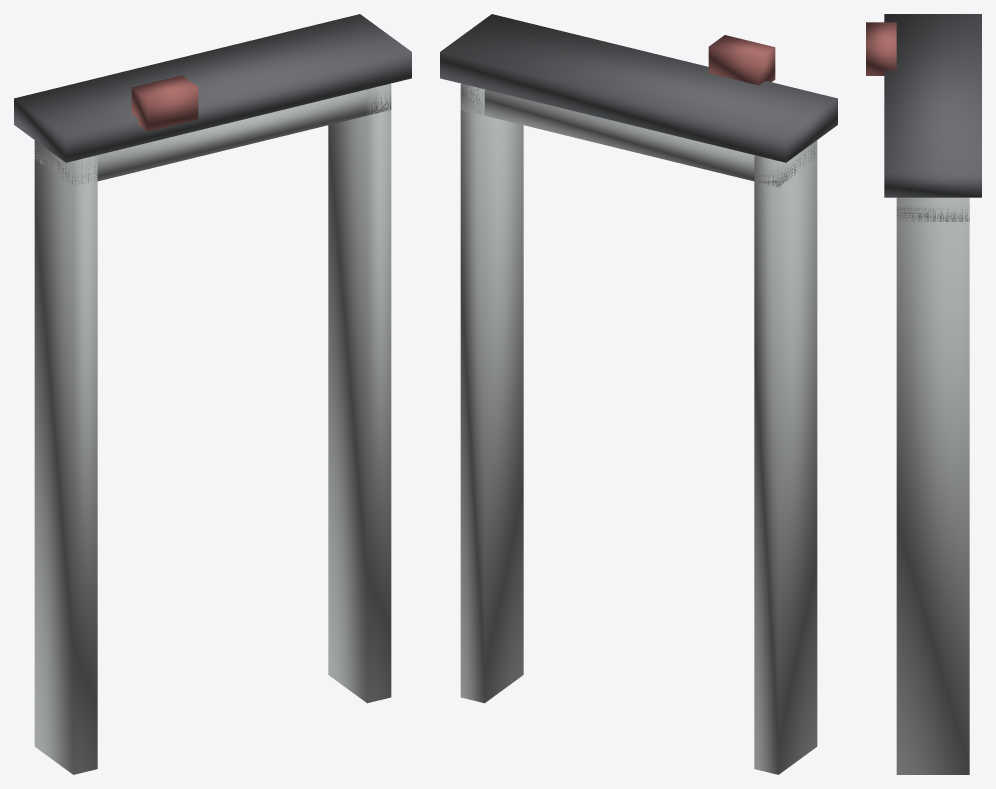
File: doorway_fire_rated_w96_h200_d24.glb
3 views of the same model, side by side, from view 1: azimuth 30°, elevation 25°; view 2: azimuth 150°, elevation 25°; view 3: azimuth 270°, elevation 25° (orthographic). The views are drawn at different scales.
Visible parts, largest first — view 1: world; view 2: world; view 3: world.
Boxes of the visible parts, left/top/right/bottom form: world: left=14, top=14, right=411, bottom=774; world: left=440, top=14, right=837, bottom=774; world: left=866, top=14, right=981, bottom=774.
Size of the model in its own units: 1.23 by 2.29 by 0.38.
